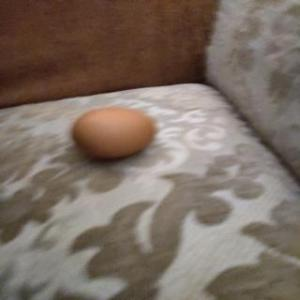egg: (73, 107, 155, 159)
